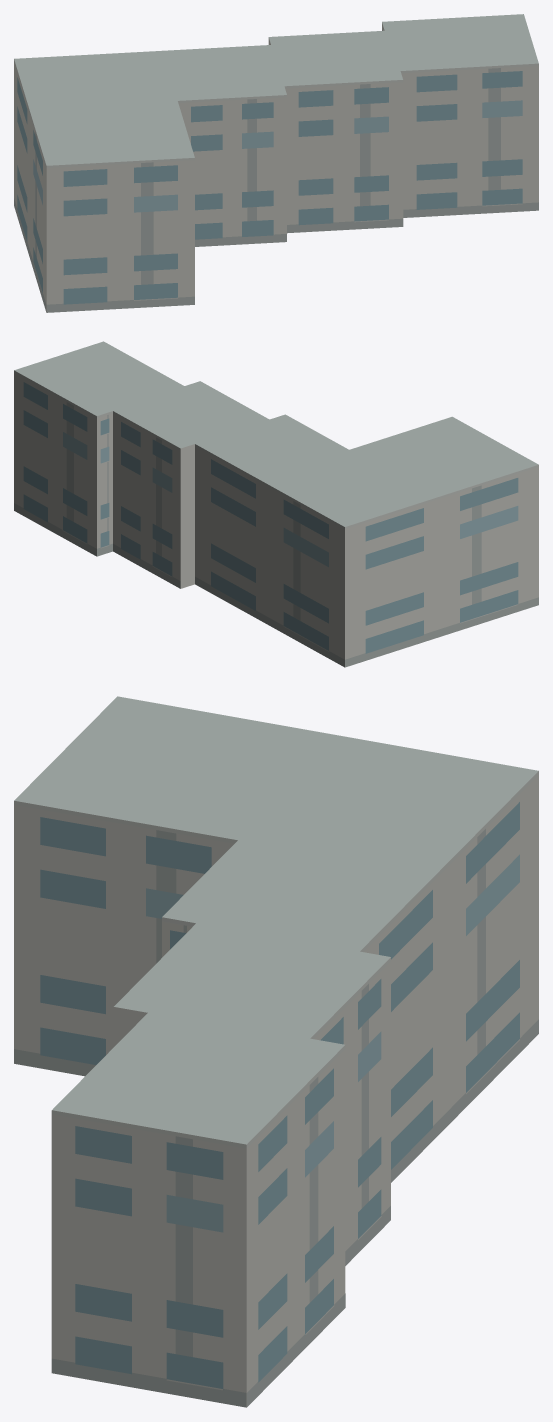
Rendered from residential-63377d0f-d93c-4065-bfe1-19b3e7b7599d.glb.
The picture shows the model from 3 angles, top to bottom: view 1: azimuth 30°, elevation 25°; view 2: azimuth 150°, elevation 25°; view 3: azimuth 270°, elevation 25°; orthographic projection. The views are drawn at different scales.
Visible parts, largest first — view 1: residential-63377d0f-d93c-4065-bfe1-19b3e7b7599d.tmp; view 2: residential-63377d0f-d93c-4065-bfe1-19b3e7b7599d.tmp; view 3: residential-63377d0f-d93c-4065-bfe1-19b3e7b7599d.tmp.
Boxes of the visible parts, left/top/right/bottom form: residential-63377d0f-d93c-4065-bfe1-19b3e7b7599d.tmp: left=14, top=14, right=538, bottom=312; residential-63377d0f-d93c-4065-bfe1-19b3e7b7599d.tmp: left=14, top=341, right=538, bottom=667; residential-63377d0f-d93c-4065-bfe1-19b3e7b7599d.tmp: left=14, top=696, right=538, bottom=1407.
Bounding box in the file's own units: 55.74 × 15.25 × 27.58.
